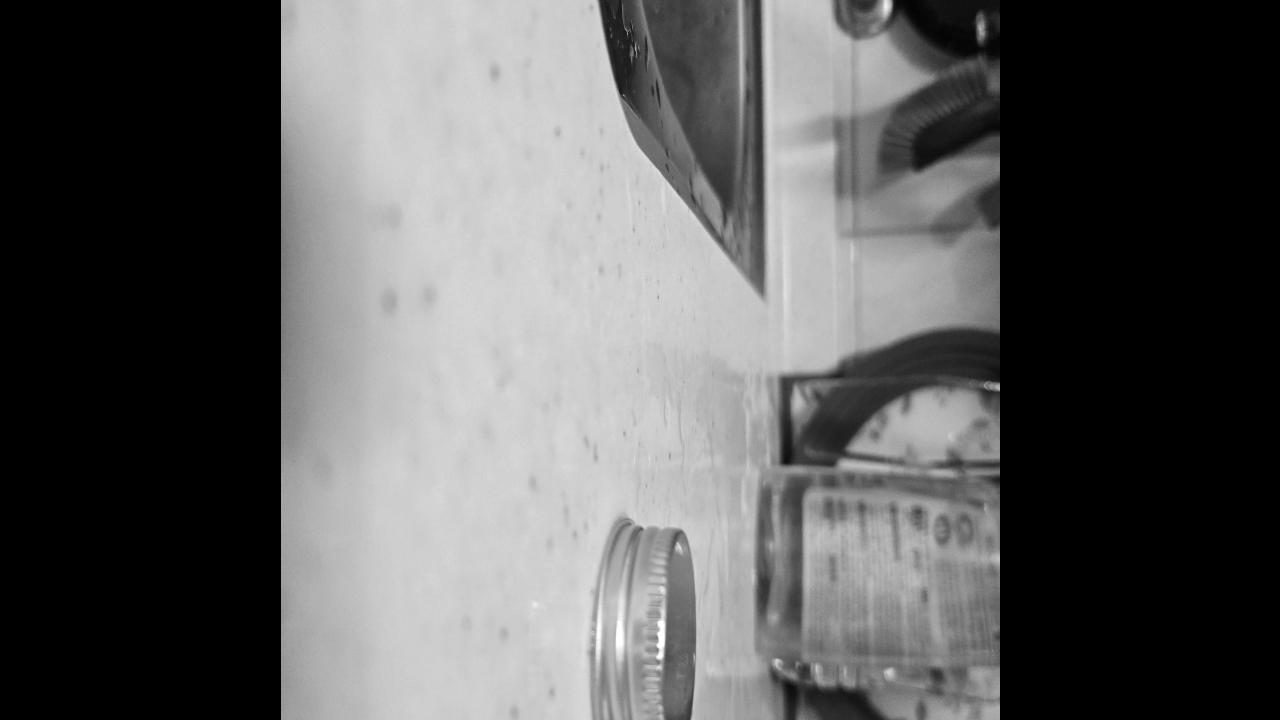bottle_cap: (591, 516, 699, 720)
